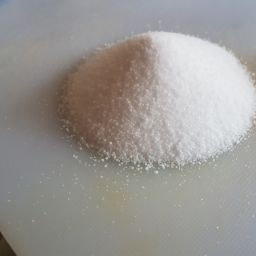Salt: (50, 22, 256, 180), (116, 49, 223, 121)
